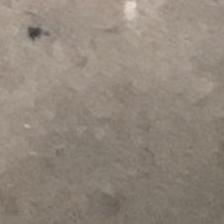Non_Crack: (10, 3, 221, 224)
